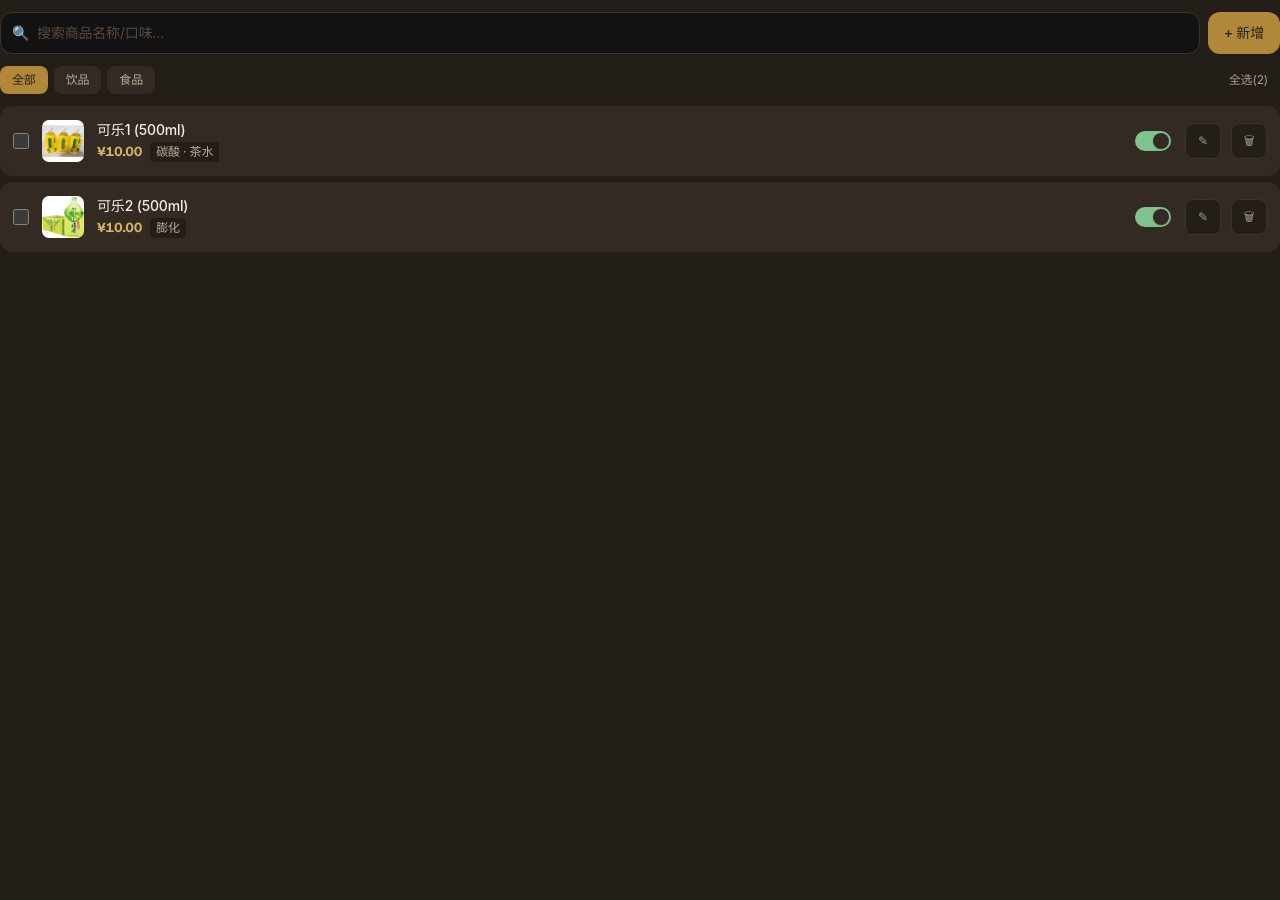
Test: 批量上下架与删除 › 部分失败要 warn 播报（服务端 failed 明细不能被吞掉）
Click the checkbox named "选择 可乐1".
click(21, 141)  # box 13,133 -> 29,149
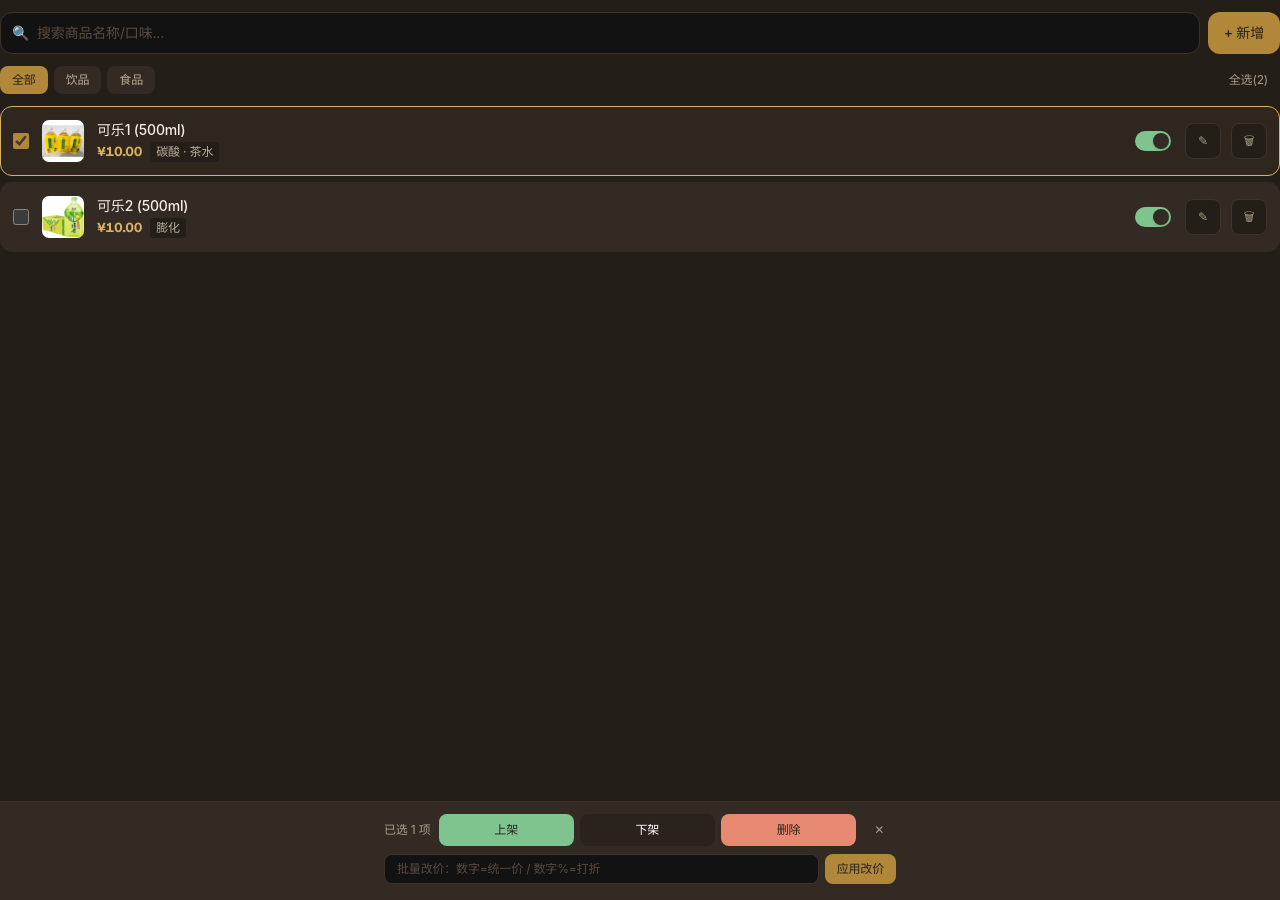
Click the checkbox named "选择 可乐2".
click(21, 217)  # box 13,209 -> 29,225
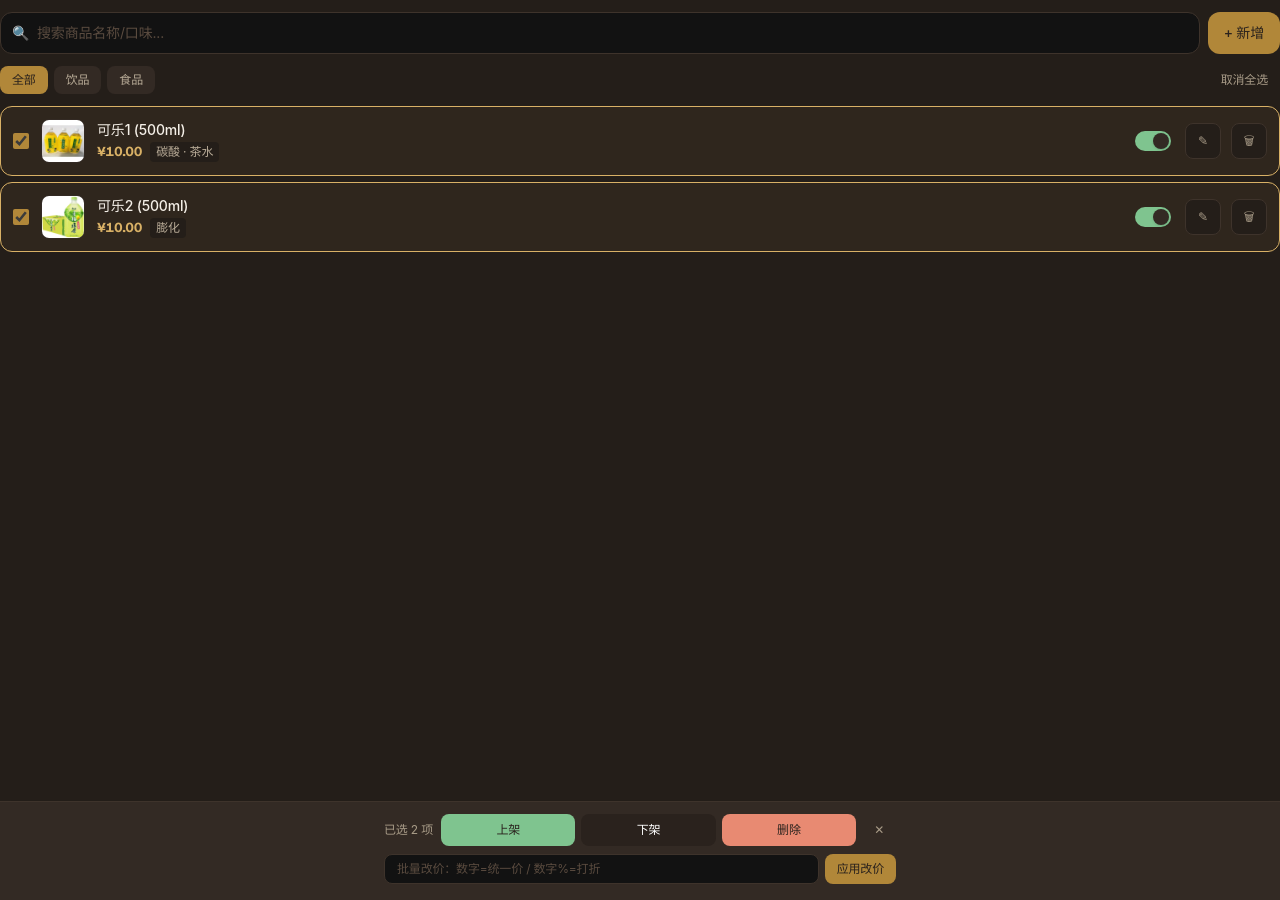
Click the button with aria-label "批量删除选中商品".
click(789, 830)  # box 722,814 -> 856,846
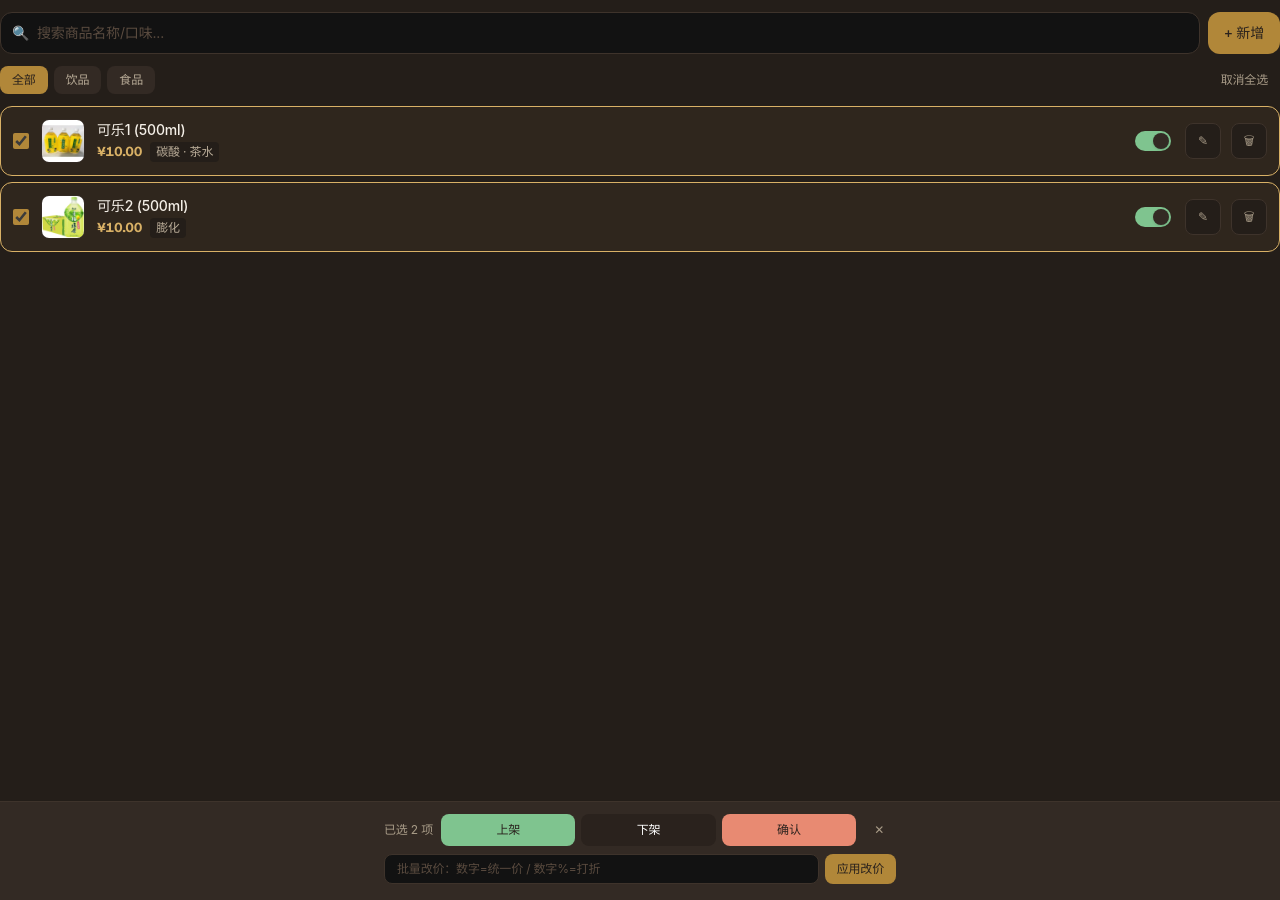
Now the button with aria-label "确认删除选中的" is shown
Click the button with aria-label "确认删除选中的".
click(789, 830)  # box 722,814 -> 856,846
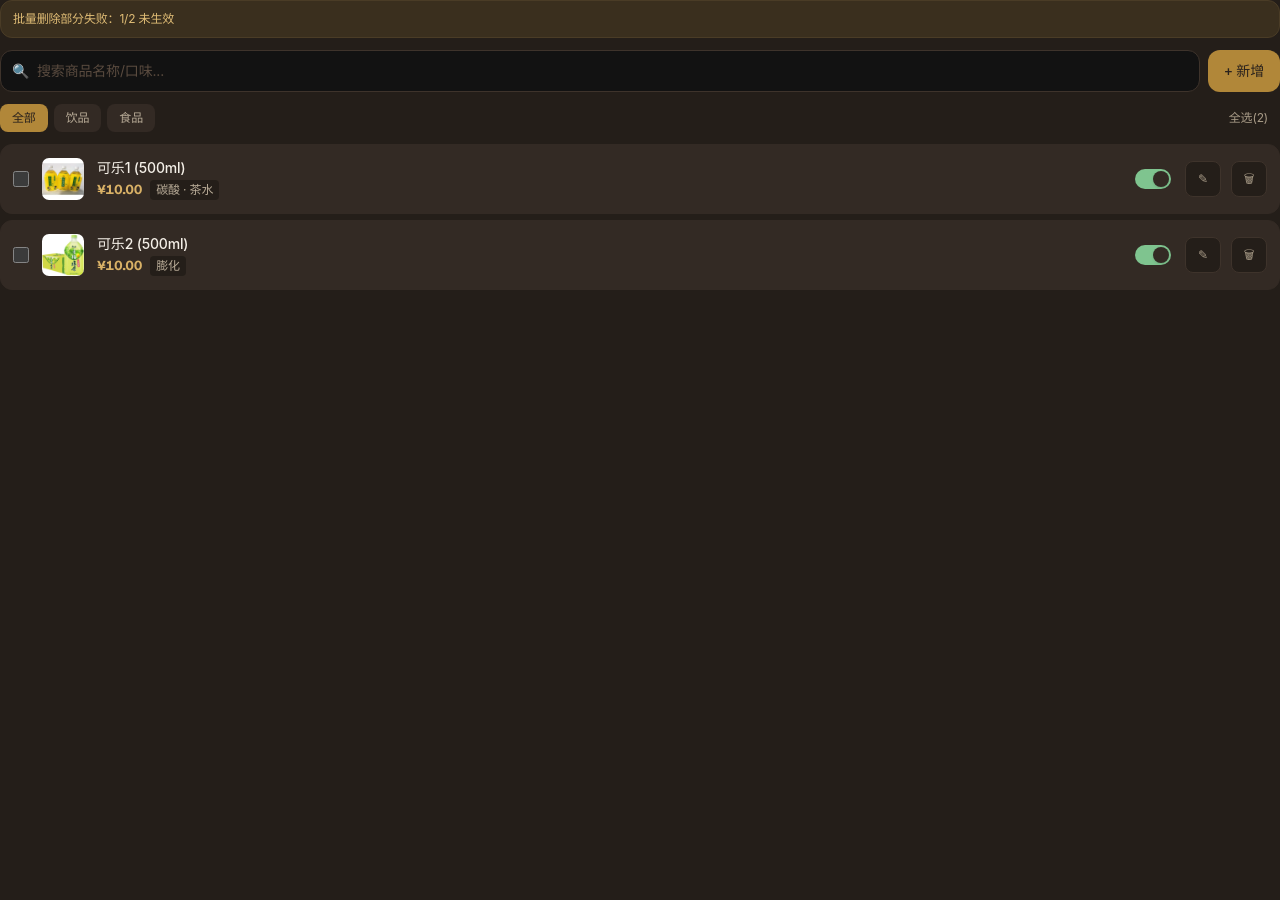
Now the message reads "批量删除部分失败：1/2 未生效", box 13,11 -> 174,26
